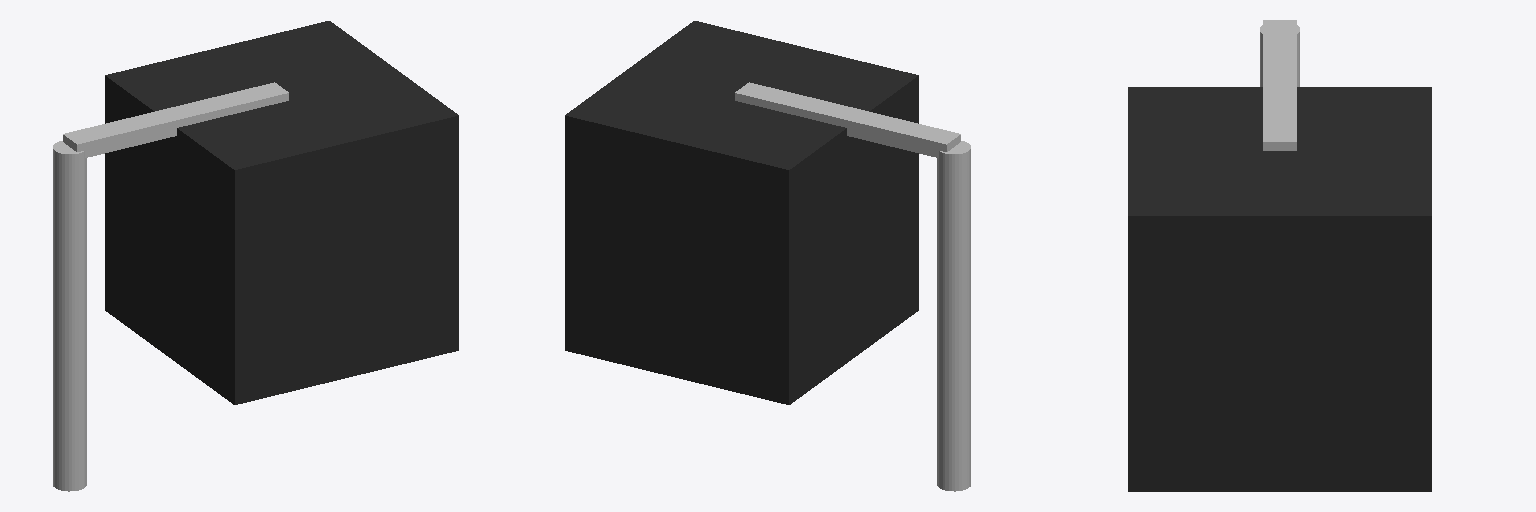
robot.urdf — qube_servo_3_pendulum:
<?xml version="1.0"?>
<!--
  Quanser QUBE-Servo 3 — Rotary Inverted Pendulum
  ============================================================
  Kinematic layout
  ─────────────────
    world (fixed)
      └── base_link          square housing box, motor inside
           └── motor_joint   revolute · Z-axis (vertical) · motor-driven
                └── arm_link horizontal rotary arm
                     └── pendulum_joint   revolute · Y-axis (horizontal,
                                          perpendicular to arm) · passive
                          └── pendulum_link   rod, hangs downward at rest

  Coordinate convention
  ─────────────────────
    Z  – up
    X  – initial arm direction (motor at origin, arm tip at +X)
    Y  – axis about which pendulum swings

  Physical parameters  (Quanser QUBE-Servo 3 Student Workbook)
  ──────────────────────────────────────────────────────────────
  Motor / Electrical
    Rm  = 8.4      Ω           terminal resistance
    Km  = 0.042    V·s/rad     back-EMF constant
    Kt  = 0.042    Nm/A        torque constant  (Km = Kt in SI)
    Jm  = 4.0e-6   kg·m²       motor rotor inertia

  Rotary arm
    Lr  = 0.085    m           pivot-to-pivot length
    Mr  = 0.095    kg          arm mass
    Jr  = Mr·Lr²/12 = 5.72e-5 kg·m²   (thin rod, axis ⊥ length)

  Pendulum
    Lp  = 0.129    m           full rod length
    Mp  = 0.024    kg          pendulum mass
    Jp  = Mp·Lp²/12 = 3.33e-5 kg·m²   (thin rod, axis ⊥ length)

  Housing
    ~90 × 90 × 90 mm,  mass ≈ 0.450 kg  (body + motor + electronics)

  STL meshes
  ──────────
  When you have the STL files, place them in  Virtual_model/  then
  replace each <geometry><box …/></geometry> block with:
      <geometry>
        <mesh filename="package://Virtual_model/<filename>.stl"
              scale="0.001 0.001 0.001"/>
      </geometry>
  Commented-out <mesh> lines below mark exactly where to do this.
-->

<robot name="qube_servo_3_pendulum">

  <!-- ── world anchor ─────────────────────────────────────────────────────── -->
  <link name="world"/>

  <joint name="world_to_base" type="fixed">
    <parent link="world"/>
    <child  link="base_link"/>
    <origin xyz="0 0 0" rpy="0 0 0"/>
  </joint>

  <!-- ════════════════════════════════════════════════════════════════════════
       base_link — QUBE housing  (90 × 90 × 90 mm)
       Inertia (solid cube, a = 0.090 m, m = 0.450 kg):
         Ixx = Iyy = Izz = m/6·a² = 0.450/6·8.1e-3 = 6.075e-4  kg·m²
       ════════════════════════════════════════════════════════════════════════ -->
  <link name="base_link">
    <visual>
      <origin xyz="0 0 0.045" rpy="0 0 0"/>
      <geometry>
        <!-- STL: <mesh filename="package://Virtual_model/Body.stl" scale="0.001 0.001 0.001"/> -->
        <box size="0.090 0.090 0.090"/>
      </geometry>
      <material name="dark_grey">
        <color rgba="0.22 0.22 0.22 1.0"/>
      </material>
    </visual>
    <collision>
      <origin xyz="0 0 0.045" rpy="0 0 0"/>
      <geometry>
        <box size="0.090 0.090 0.090"/>
      </geometry>
    </collision>
    <inertial>
      <origin xyz="0 0 0.045" rpy="0 0 0"/>
      <mass value="0.450"/>
      <inertia ixx="6.075e-4" iyy="6.075e-4" izz="6.075e-4"
               ixy="0" ixz="0" iyz="0"/>
    </inertial>
  </link>

  <!-- ════════════════════════════════════════════════════════════════════════
       motor_joint  — revolute, vertical Z-axis
       Origin at the top face of the housing (z = 0.090 m), on shaft centreline.
       Drives the rotary arm; defines motor angle θ.
       Arm home = π rad (180°).  Travel limited to ±90° from home:
         lower = π/2  (90°)   upper = 3π/2 (270°)  in world frame.
       URDF lower/upper are expressed relative to the joint zero (arm at +X = 0 rad),
       so lower = 1.5708 (π/2), upper = 4.7124 (3π/2).
       Effort limit = amplifier rail ±18 V equivalent.
       ════════════════════════════════════════════════════════════════════════════ -->
  <joint name="motor_joint" type="revolute">
    <parent link="base_link"/>
    <child  link="arm_link"/>
    <origin xyz="0 0 0.090" rpy="0 0 0"/>
    <axis   xyz="0 0 1"/>
    <dynamics damping="0.0" friction="0.0"/>
    <limit lower="1.5708" upper="4.7124" effort="18.0" velocity="100.0"/>
  </joint>

  <!-- ════════════════════════════════════════════════════════════════════════
       arm_link — aluminium rotary arm  (85 × 10 × 6 mm,  Mr = 0.095 kg)
       CoM at (Lr/2, 0, 0) = (0.0425, 0, 0) from motor_joint origin.
       Inertia at CoM (thin box, l=0.085, w=0.010, h=0.006):
         Ixx = m/12·(w²+h²) = 0.095/12·(1.0e-4+3.6e-5) = 1.08e-6
         Iyy = m/12·(l²+h²) = 0.095/12·(7.225e-3+3.6e-5) = 5.76e-5
         Izz = m/12·(l²+w²) = 0.095/12·(7.225e-3+1.0e-4) = 5.79e-5
       ════════════════════════════════════════════════════════════════════════ -->
  <link name="arm_link">
    <visual>
      <origin xyz="0.0425 0 0" rpy="0 0 0"/>
      <geometry>
        <!-- STL: <mesh filename="package://Virtual_model/Motor.stl" scale="0.001 0.001 0.001"/> -->
        <box size="0.085 0.010 0.006"/>
      </geometry>
      <material name="aluminium">
        <color rgba="0.78 0.78 0.78 1.0"/>
      </material>
    </visual>
    <collision>
      <origin xyz="0.0425 0 0" rpy="0 0 0"/>
      <geometry>
        <box size="0.085 0.010 0.006"/>
      </geometry>
    </collision>
    <inertial>
      <origin xyz="0.0425 0 0" rpy="0 0 0"/>
      <mass value="0.095"/>
      <inertia ixx="1.08e-6" iyy="5.76e-5" izz="5.79e-5"
               ixy="0" ixz="0" iyz="0"/>
    </inertial>
  </link>

  <!-- ════════════════════════════════════════════════════════════════════════
       pendulum_joint  — revolute, axis ALONG the arm (arm-frame +X)
       Origin at far end of arm: x = Lr = 0.085 m from motor_joint.
       Axis = X in arm frame  (= arm direction in world when arm at theta)
       The pendulum therefore swings in the arm-YZ plane, i.e. PERPENDICULAR
       to the arm when viewed from above.
       Passive: effort = 0  (no actuator on this joint).
       ════════════════════════════════════════════════════════════════════════════ -->
  <joint name="pendulum_joint" type="continuous">
    <parent link="arm_link"/>
    <child  link="pendulum_link"/>
    <origin xyz="0.085 0 0" rpy="0 0 0"/>
    <axis   xyz="1 0 0"/>
    <dynamics damping="0.0" friction="0.0"/>
    <limit  effort="0.0" velocity="100.0"/>
  </joint>

  <!-- ════════════════════════════════════════════════════════════════════════
       pendulum_link — aluminium rod  (Lp = 0.129 m, r = 0.006 m, Mp = 0.024 kg)
       At rest (α = 0) hangs straight down →
         CoM at (0, 0, −Lp/2) = (0, 0, −0.0645) from pendulum_joint origin.
       Inertia at CoM (thin cylinder along Z):
         Ixx = Iyy = m/12·(3r²+Lp²) ≈ Mp·Lp²/12 = 3.33e-5  kg·m²
         Izz = ½·m·r²                              = 4.32e-7  kg·m²
       ════════════════════════════════════════════════════════════════════════ -->
  <link name="pendulum_link">
    <visual>
      <origin xyz="0 0 -0.0645" rpy="0 0 0"/>
      <geometry>
        <!-- STL: <mesh filename="package://Virtual_model/Pendulum.stl" scale="0.001 0.001 0.001"/> -->
        <cylinder length="0.129" radius="0.006"/>
      </geometry>
      <material name="aluminium">
        <color rgba="0.78 0.78 0.78 1.0"/>
      </material>
    </visual>
    <collision>
      <origin xyz="0 0 -0.0645" rpy="0 0 0"/>
      <geometry>
        <cylinder length="0.129" radius="0.006"/>
      </geometry>
    </collision>
    <inertial>
      <origin xyz="0 0 -0.0645" rpy="0 0 0"/>
      <mass value="0.024"/>
      <inertia ixx="3.33e-5" iyy="3.33e-5" izz="4.32e-7"
               ixy="0" ixz="0" iyz="0"/>
    </inertial>
  </link>

</robot>

--- What the picture shows (computed from the rendered views, not written in the file) ---
Views: 3 orthographic renders of the robot side by side, from view 1: azimuth 30°, elevation 25°; view 2: azimuth 150°, elevation 25°; view 3: azimuth 270°, elevation 25°.
Model qube_servo_3_pendulum with 4 links and 3 joints (1 revolute, 1 continuous, 1 fixed), rooted at world, posed joints at zero except 1 at the middle of their limits (motor_joint = 3.14).
Links seen in each view (by area): view 1: base_link, pendulum_link, arm_link; view 2: base_link, pendulum_link, arm_link; view 3: base_link, arm_link.
Link boxes in pixels (box(x1,y1,x2,y2)): base_link: box(105, 21, 458, 404); pendulum_link: box(53, 141, 86, 491); arm_link: box(63, 82, 288, 157); base_link: box(565, 21, 918, 404); pendulum_link: box(937, 141, 970, 491); arm_link: box(735, 82, 960, 157); base_link: box(1128, 87, 1431, 491); arm_link: box(1263, 20, 1296, 150).
Size in the robot's own frame: 0.136 by 0.09 by 0.132 metres.
Geometry: primitives only (box / cylinder / sphere), no mesh files.
